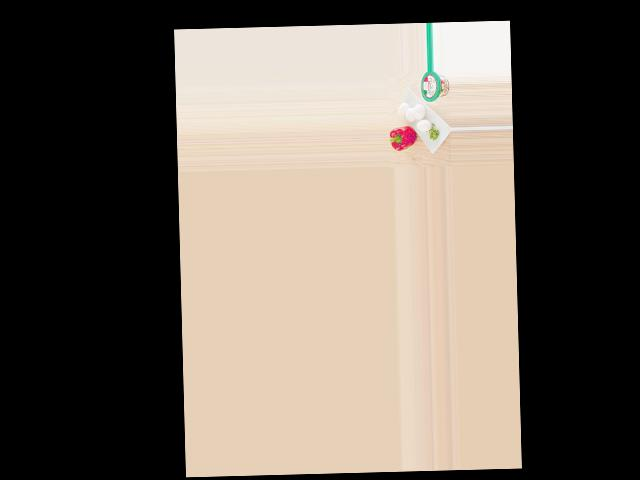bell_pepper: (389, 121, 416, 153)
